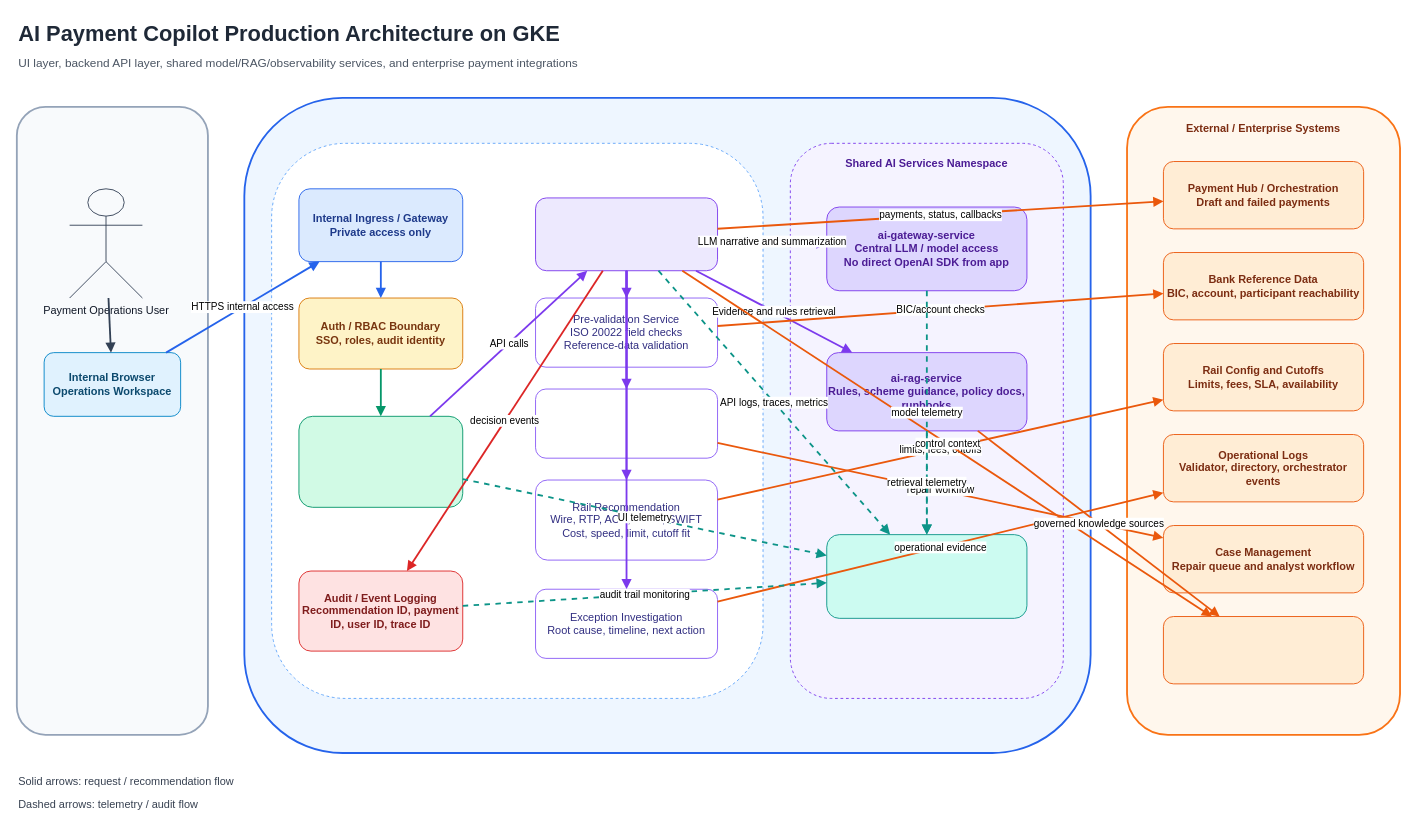
Some shapes in this 1416 by 831 pixel diagram are drawn without their labels. Each missing label, with the box of its shape:
ai-payment-copilot-api Backend API Layer: (535, 197, 718, 271)
ai-payment-copilot-ui Internal web UI Pre-validation, rail advice, investigation: (298, 415, 463, 507)
ai-sre-observability Logs, traces, metrics, health, alerts: (826, 534, 1027, 618)
Application Namespace: (271, 142, 763, 698)
Compliance / Sanctions Screening and control decisions: (1163, 616, 1364, 684)
GKE Cluster: (243, 96, 1091, 753)
Repair Recommendation Suggest-only actions Evidence-backed guidance: (535, 388, 718, 458)
User / Operations Layer: (15, 106, 208, 735)
